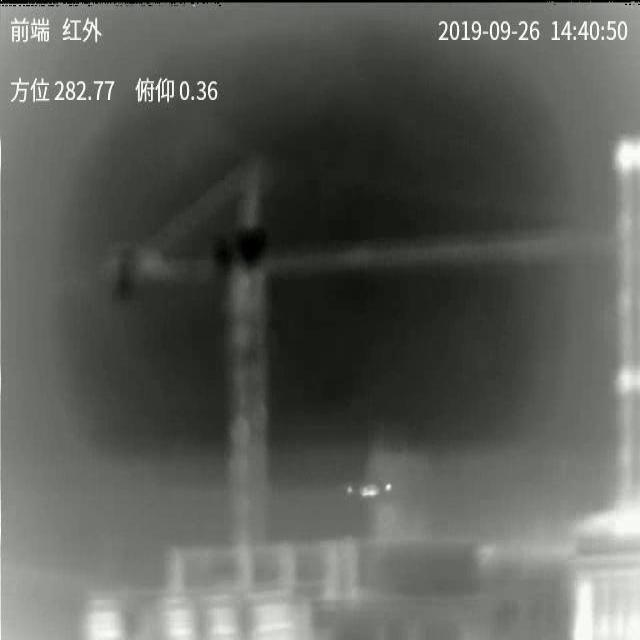drone: (346, 483, 393, 498)
